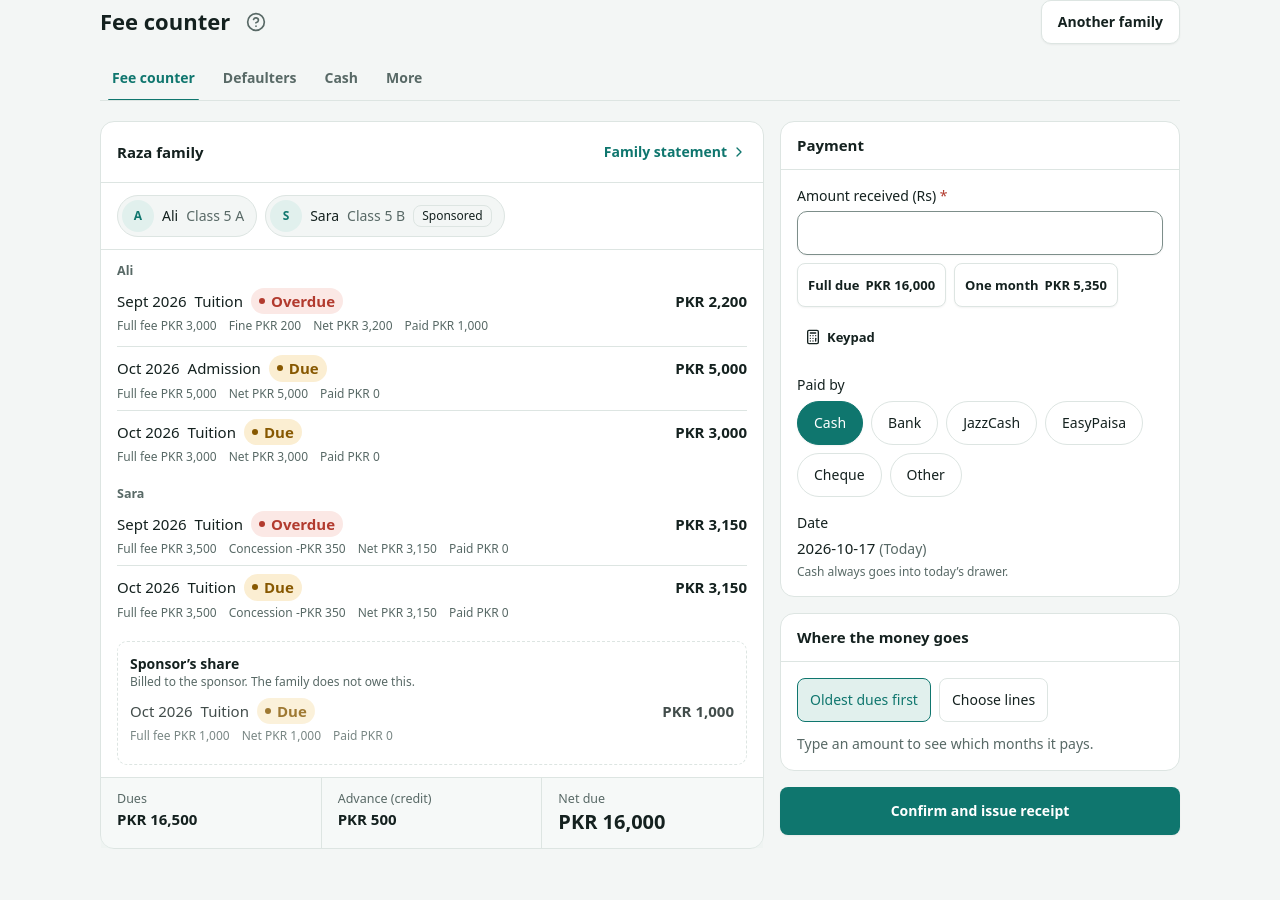
Test: counter: role-aware hints and refusals › a closed drawer is explained, not shown as a raw 409
Type "1000" into the field with id "counter-amount". click: (980, 233)
box: x1=797 y1=211 x2=1163 y2=255
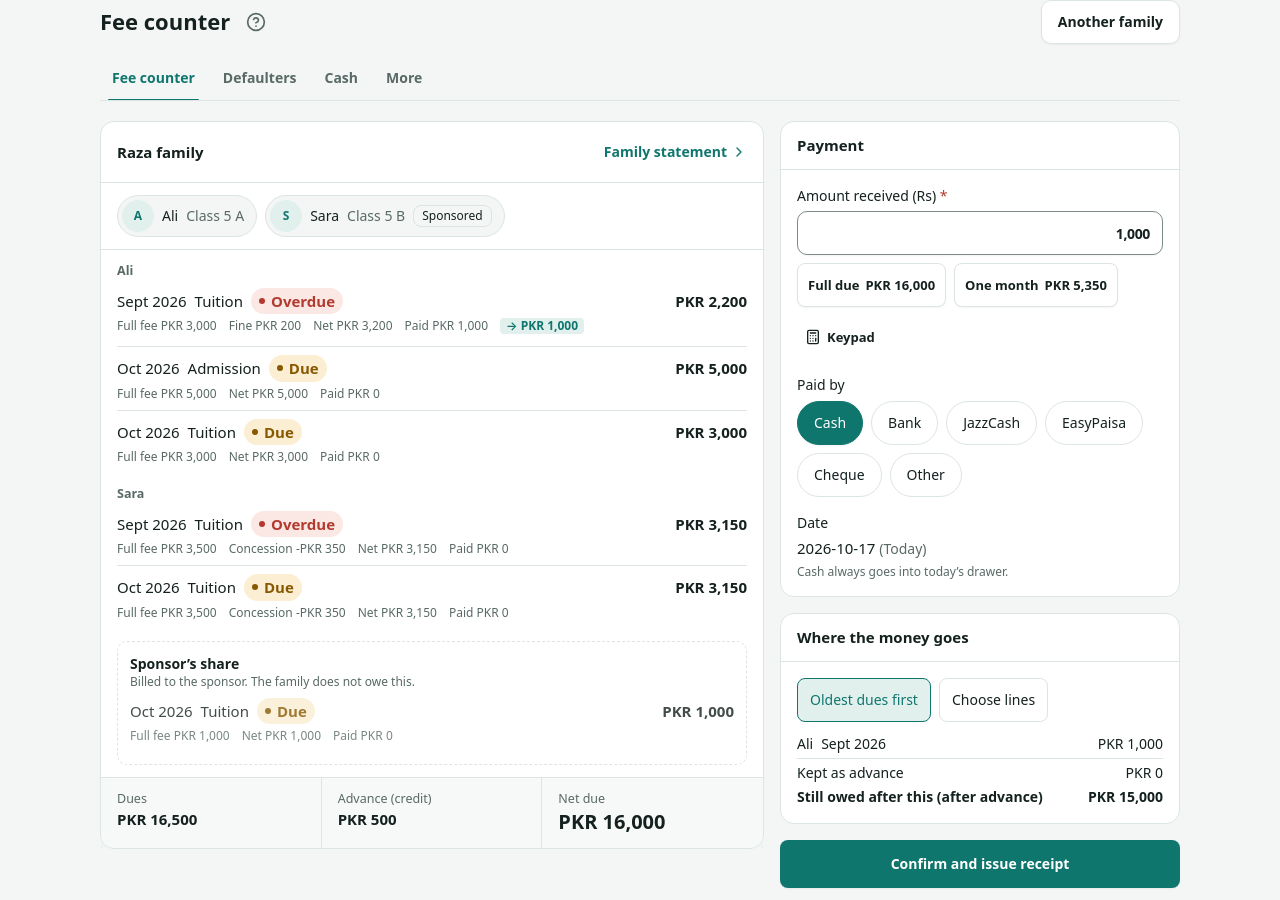
Click the button with id "counter-confirm". click: (980, 864)
box: x1=780 y1=840 x2=1180 y2=888
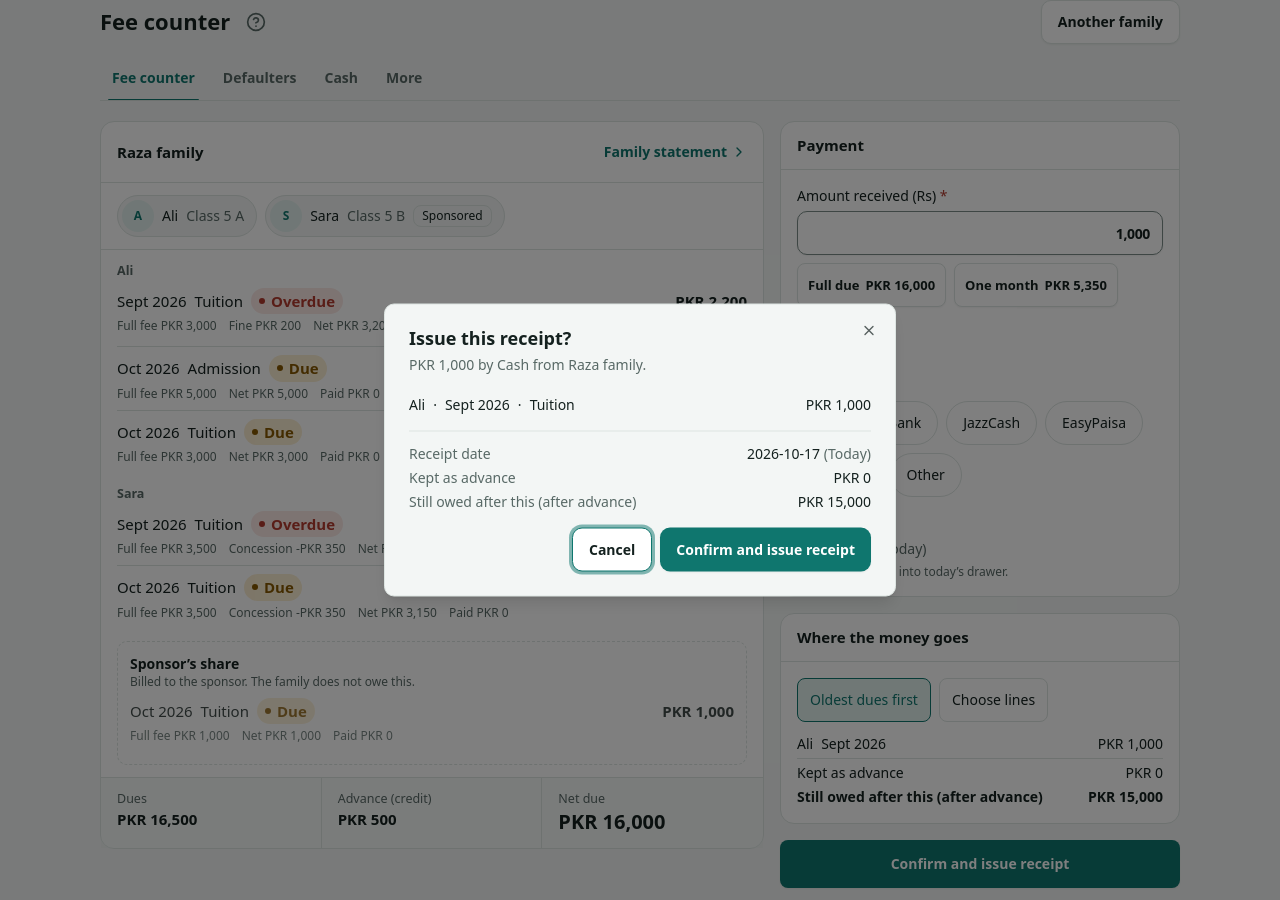
Click the button with id "counter-issue". click: (766, 550)
box: x1=660 y1=528 x2=871 y2=572
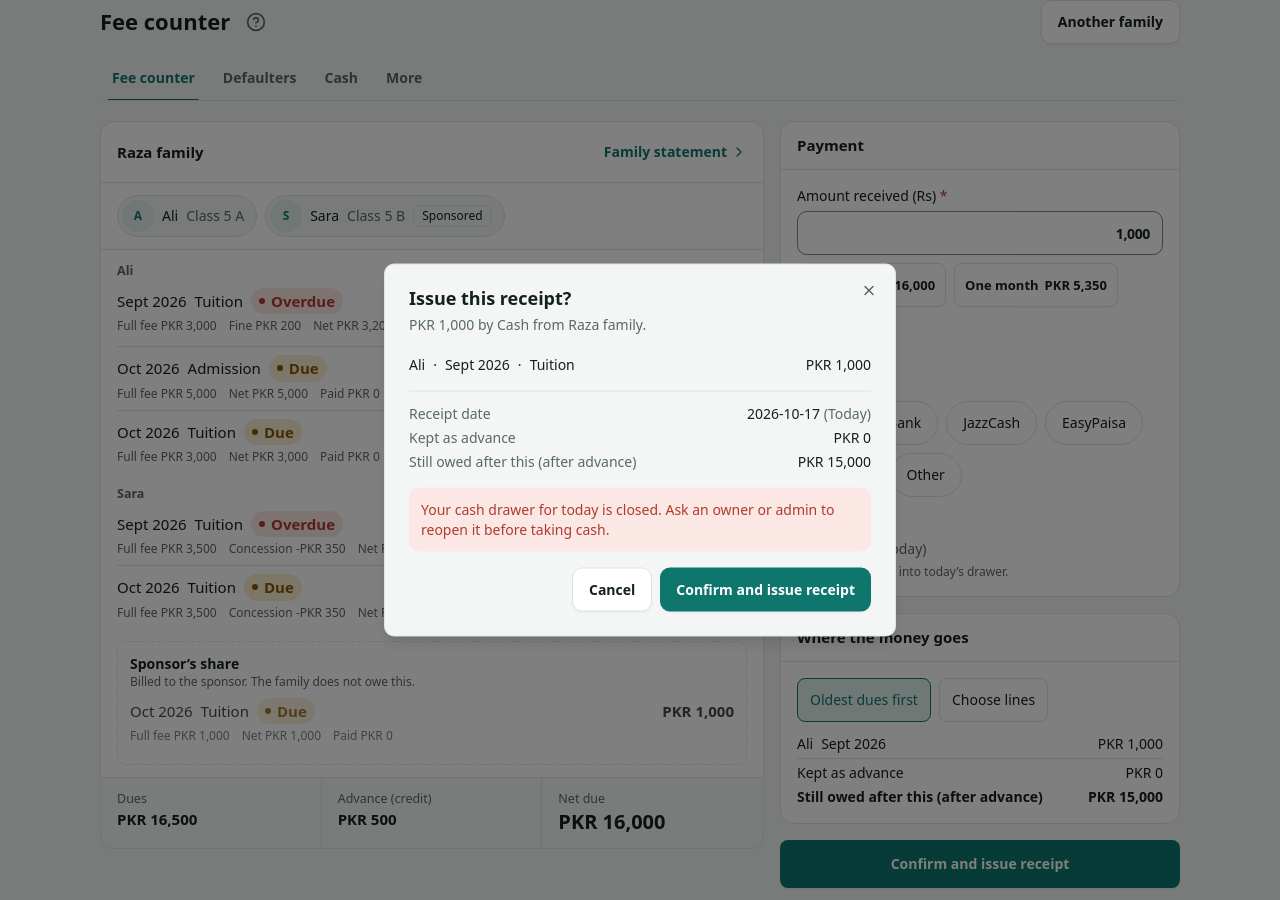
Now the text "Your cash drawer for today is closed. Ask an owner or admin to reopen it before taking cash." is shown, box x1=421 y1=500 x2=834 y2=538
